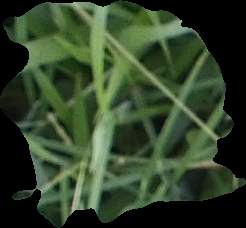grass: (1, 1, 245, 227)
